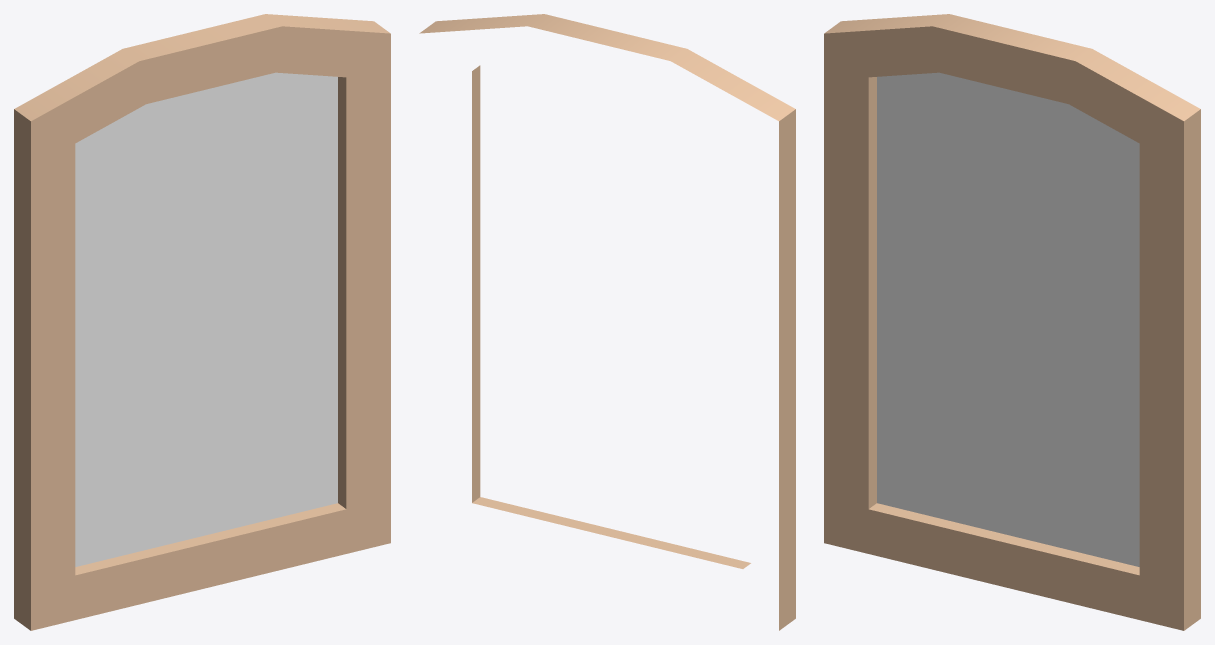
File: specchio-lavandino.glb
The picture shows the model from 3 angles, left to right: view 1: azimuth 30°, elevation 25°; view 2: azimuth 150°, elevation 25°; view 3: azimuth 330°, elevation 25°; orthographic projection.
Visible parts, largest first — view 1: bathroomMirror(Clone); view 2: bathroomMirror(Clone); view 3: bathroomMirror(Clone).
Part boxes in pixels (box(x1,y1,x2,y2)): bathroomMirror(Clone): box(14, 14, 390, 630); bathroomMirror(Clone): box(419, 14, 795, 630); bathroomMirror(Clone): box(824, 14, 1200, 630).
Size of the model in its own units: 0.3013 by 0.4346 by 0.0244.
